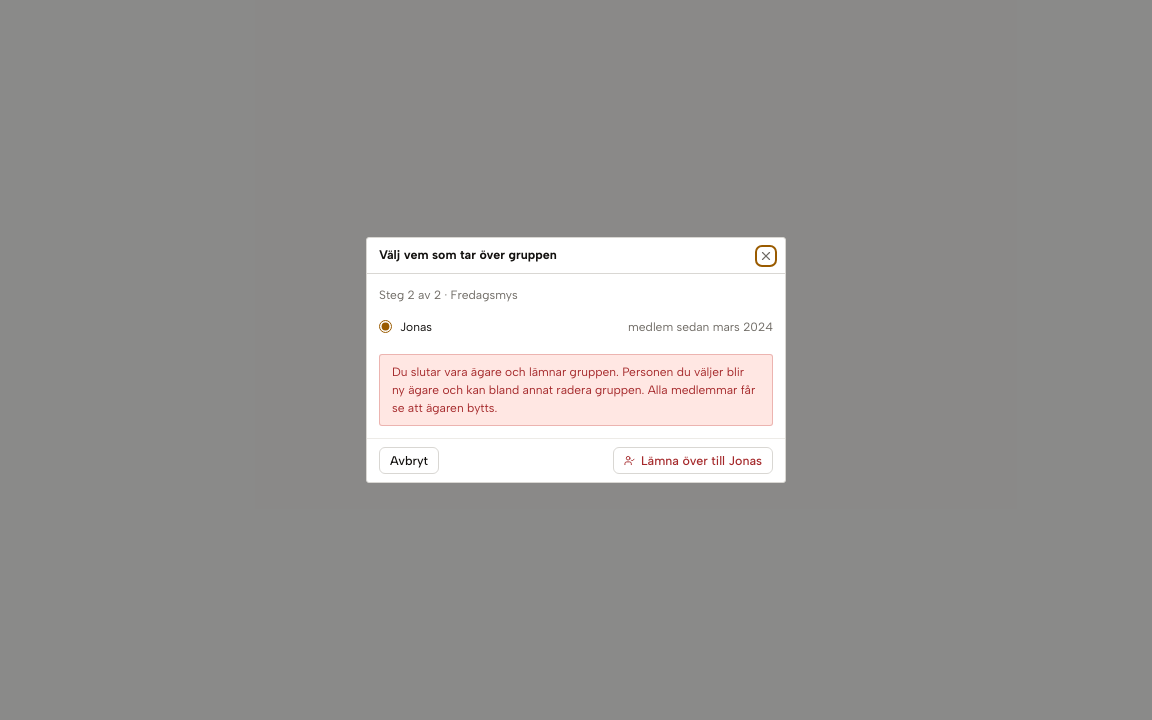
Test: HandOverGroupDialog › visar INTE ett tekniskt fel ordagrant
Click the button "Lämna över till Jonas".
click(693, 460)  # box x1=613 y1=447 x2=773 y2=474
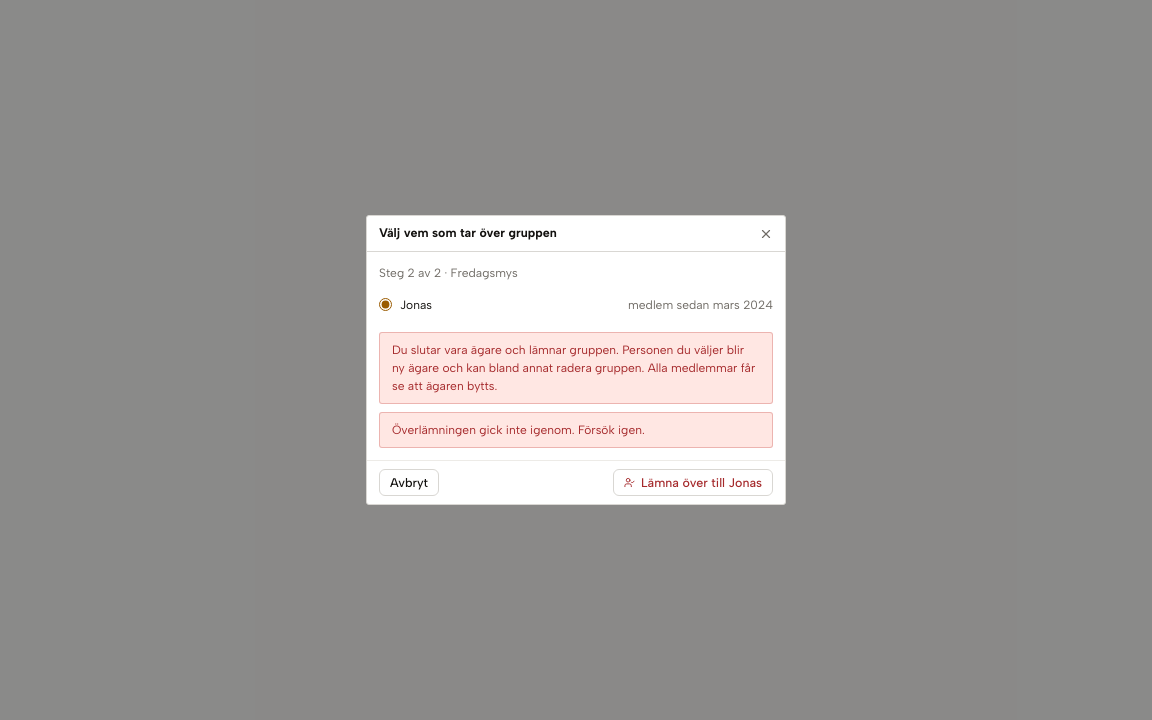
Now the text "Överlämningen gick inte igenom. Försök igen." is shown, box x1=379 y1=412 x2=773 y2=448
